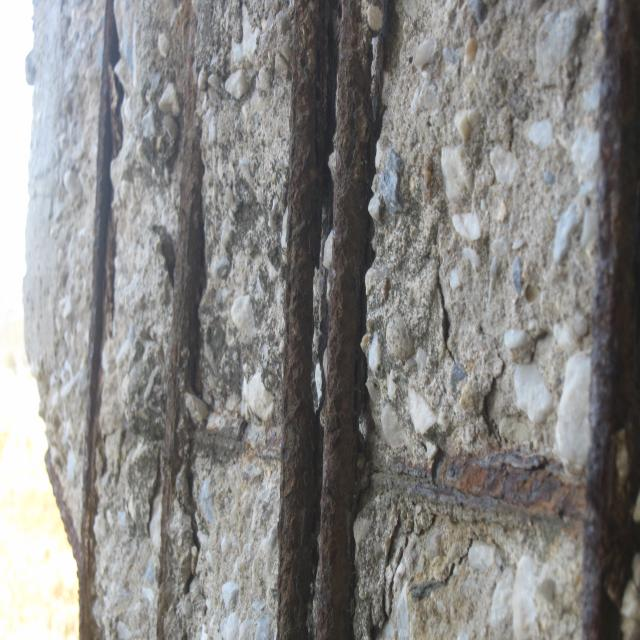corrosion: (66, 1, 640, 640)
